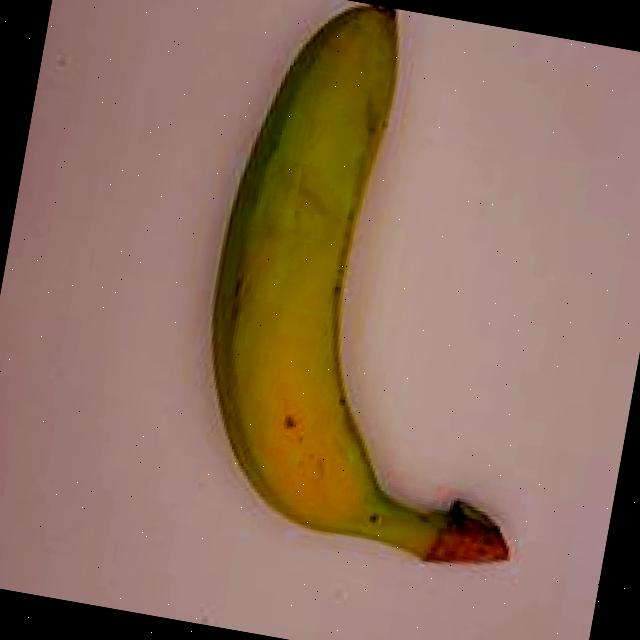Unripe: (135, 0, 606, 585)
